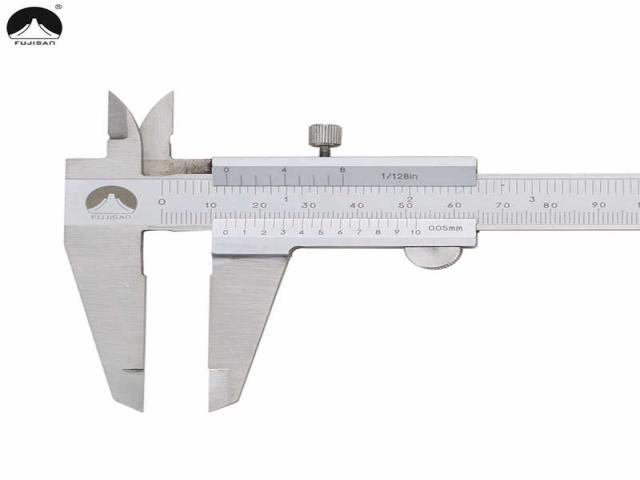Calipers: (65, 93, 640, 411)
